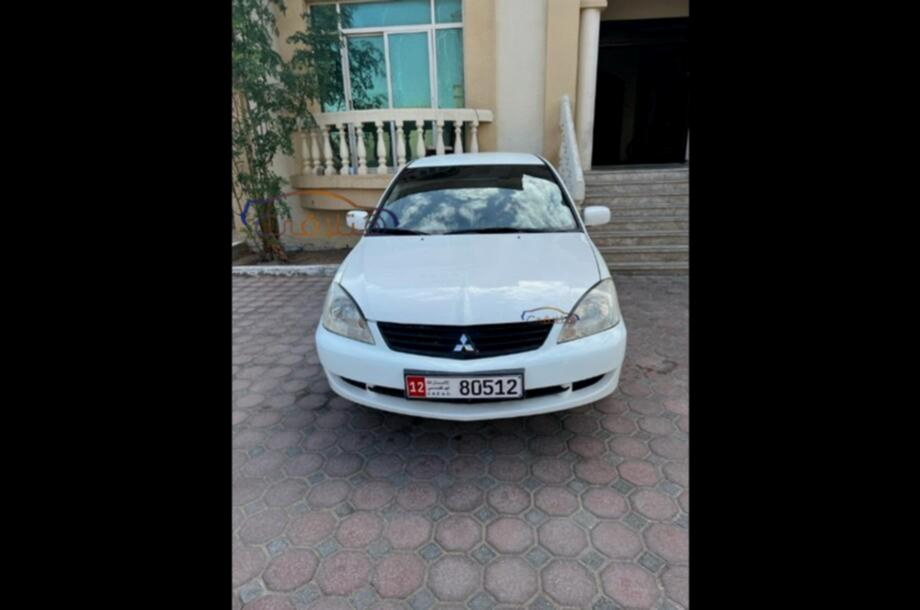Mitsubishi: (444, 329, 484, 364)
